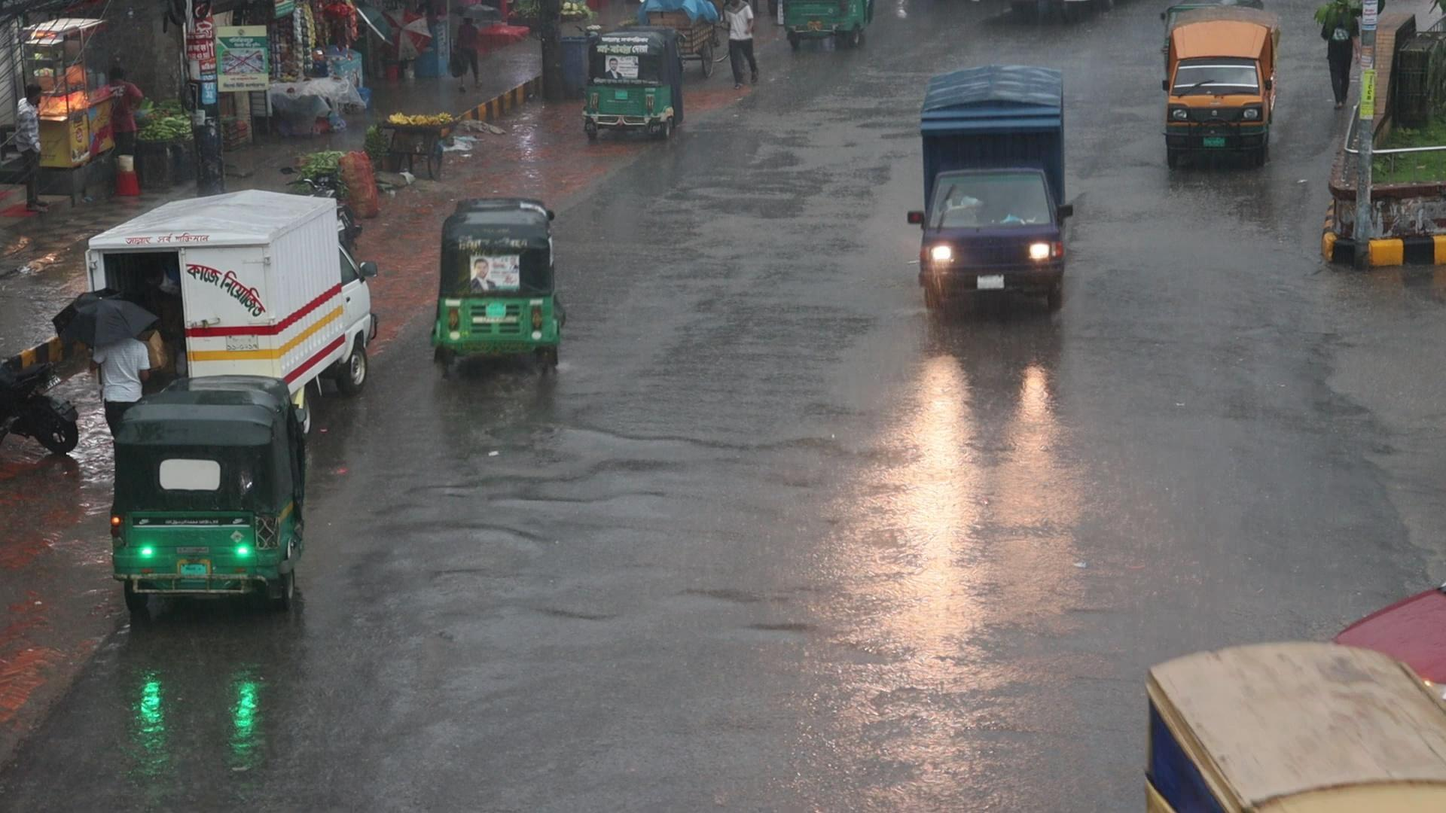Truck: (906, 61, 1075, 331), (1156, 5, 1279, 180)
